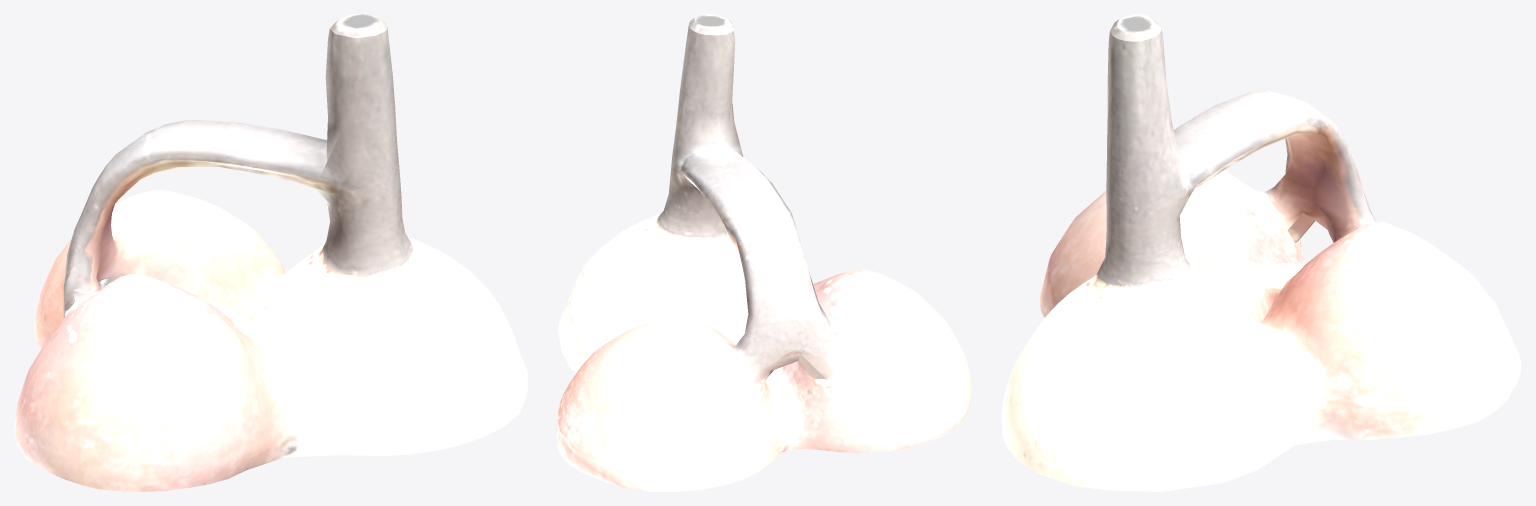
Rendered from objeto_10_nasca.glb.
3 renders of one model, left to right at view 1: azimuth 30°, elevation 25°; view 2: azimuth 150°, elevation 25°; view 3: azimuth 270°, elevation 25°, orthographic. The views are drawn at different scales.
Parts seen in each view (by area): view 1: Object001_objeto01_0; view 2: Object001_objeto01_0; view 3: Object001_objeto01_0.
Part boxes in pixels (x1=…): Object001_objeto01_0: x1=14, y1=14, x2=527, y2=491; Object001_objeto01_0: x1=556, y1=14, x2=972, y2=491; Object001_objeto01_0: x1=1001, y1=14, x2=1521, y2=491.
Bounding box in the file's own units: 101 × 80.65 × 96.58.
